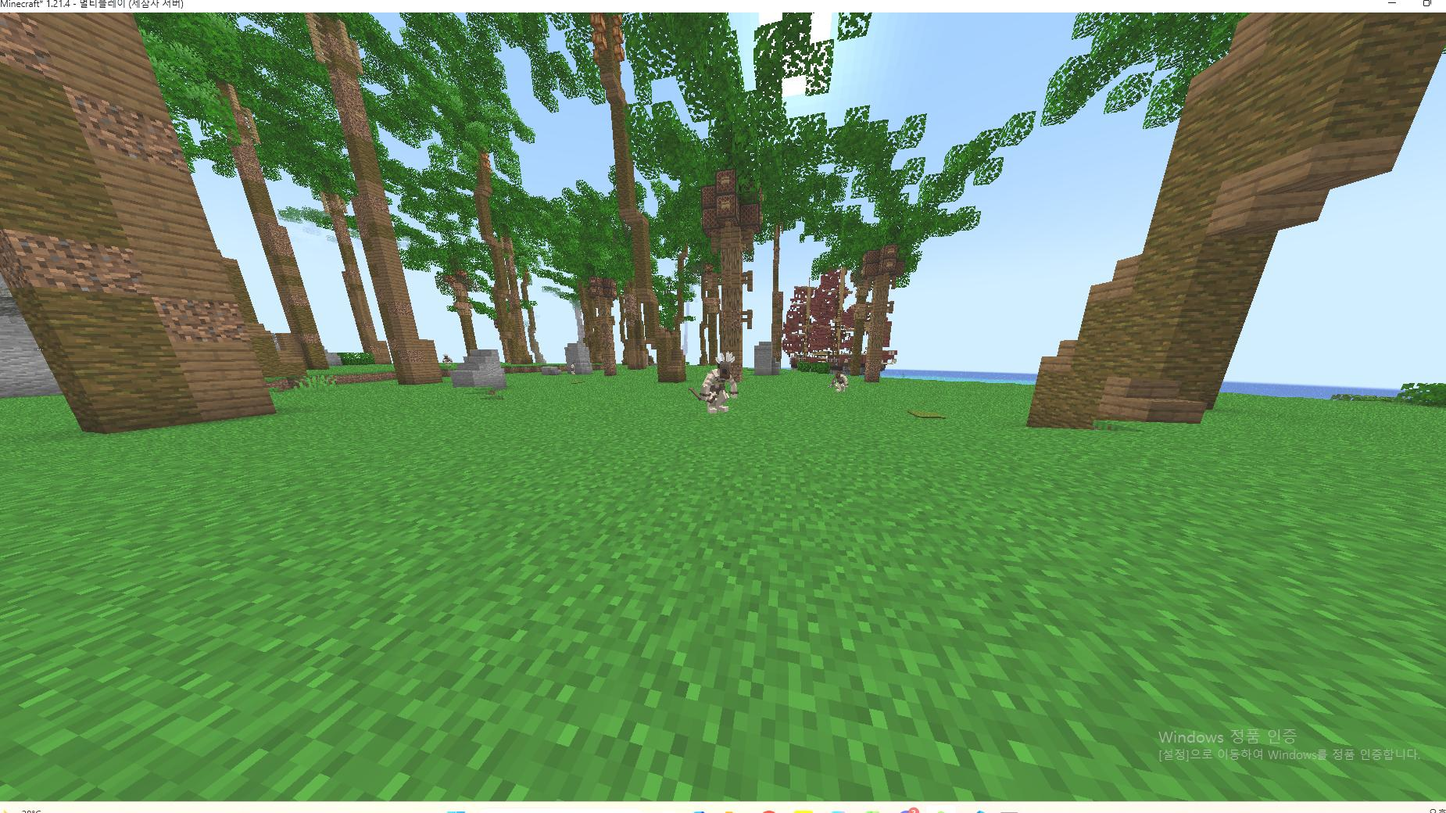bow_indian: (691, 343, 756, 424)
